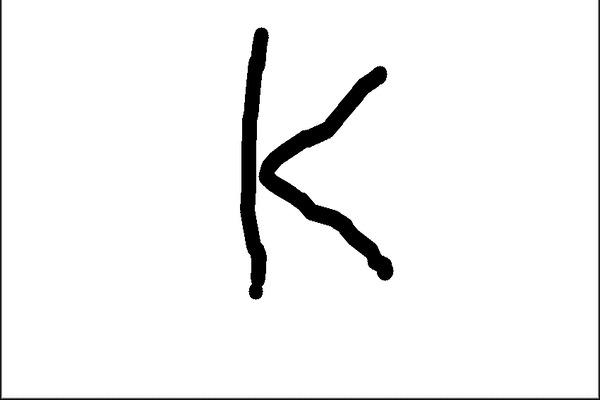K: (230, 19, 402, 304)
